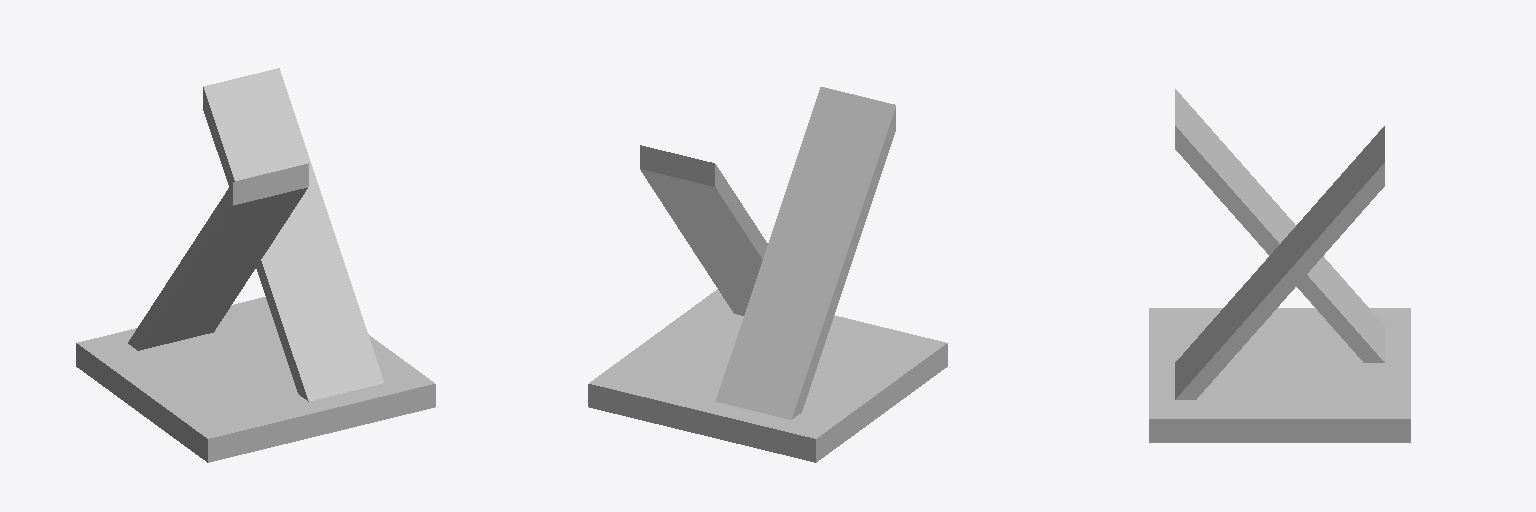
Rendered from Stair_Up.obj.
3 renders of one model, left to right at view 1: azimuth 30°, elevation 25°; view 2: azimuth 150°, elevation 25°; view 3: azimuth 270°, elevation 25°, orthographic.
Visible parts, largest first — view 1: cube1; view 2: cube1; view 3: cube1.
Part boxes in pixels (x1,y1,x2,y2): cube1: (76,68,435,462); cube1: (588,87,947,462); cube1: (1149,89,1410,442).
Size of the model in its own units: 1 by 1.1 by 1.